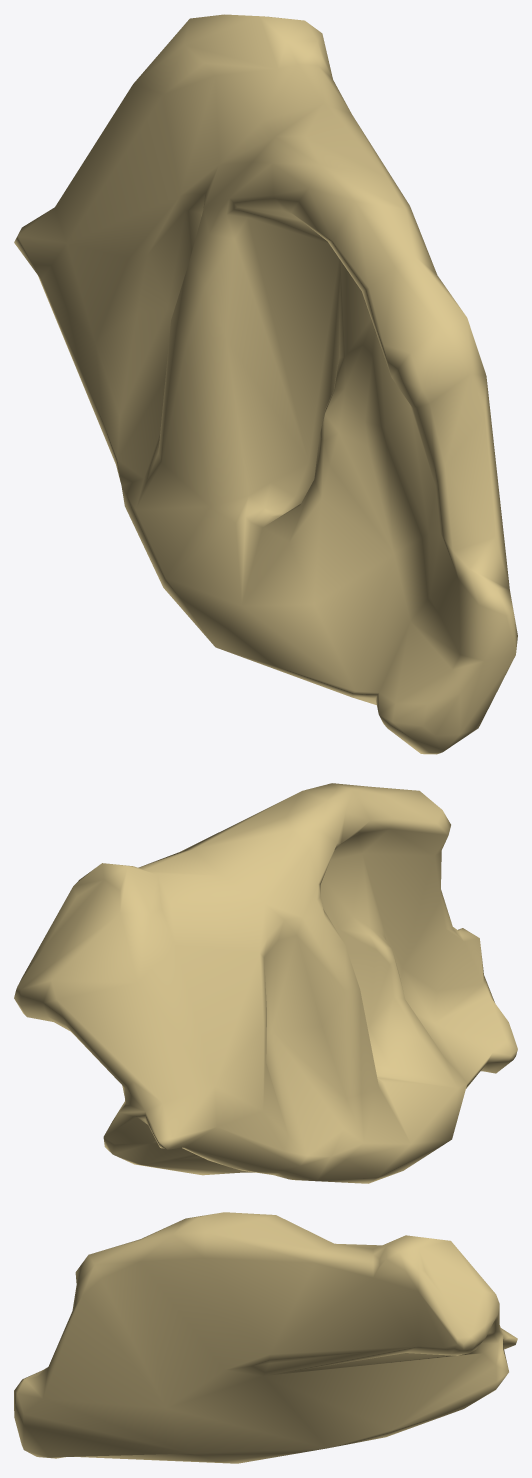
3 views of the same model, one above another, from view 1: azimuth 30°, elevation 25°; view 2: azimuth 150°, elevation 25°; view 3: azimuth 270°, elevation 25° (orthographic). The views are drawn at different scales.
Visible parts, largest first — view 1: 左侧泪骨; view 2: 左侧泪骨; view 3: 左侧泪骨.
Boxes of the visible parts, box(x1,y1,x2,y2) form: 左侧泪骨: box(14, 14, 517, 754); 左侧泪骨: box(14, 783, 517, 1183); 左侧泪骨: box(14, 1212, 517, 1463).
Bounding box in the file's own units: 0.0157 × 0.0217 × 0.037.
